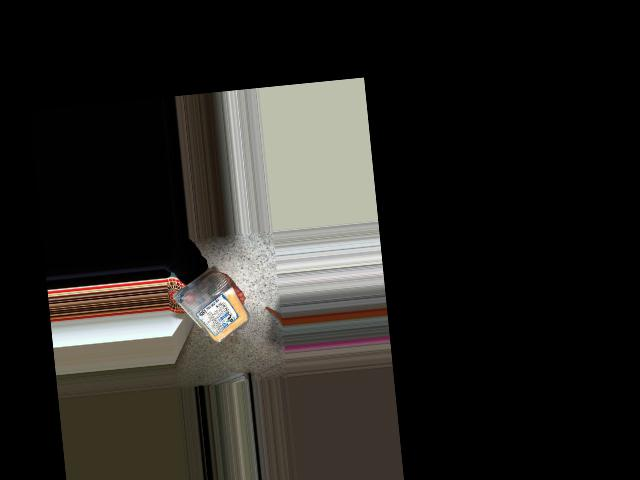cheese: (177, 273, 242, 348)
